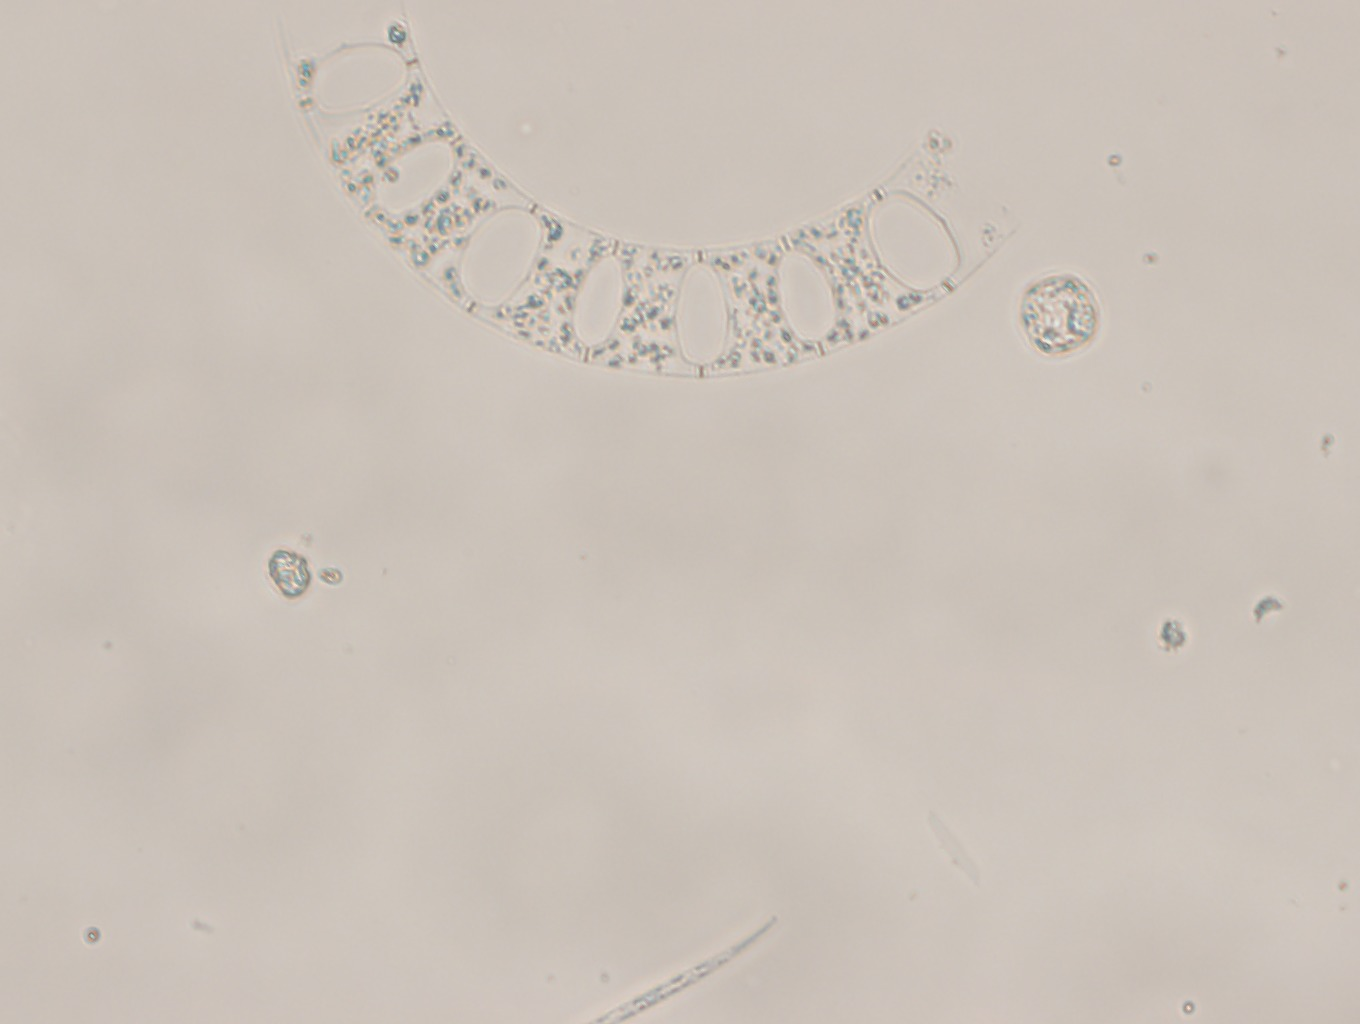eucampia: (272, 10, 1003, 379)
